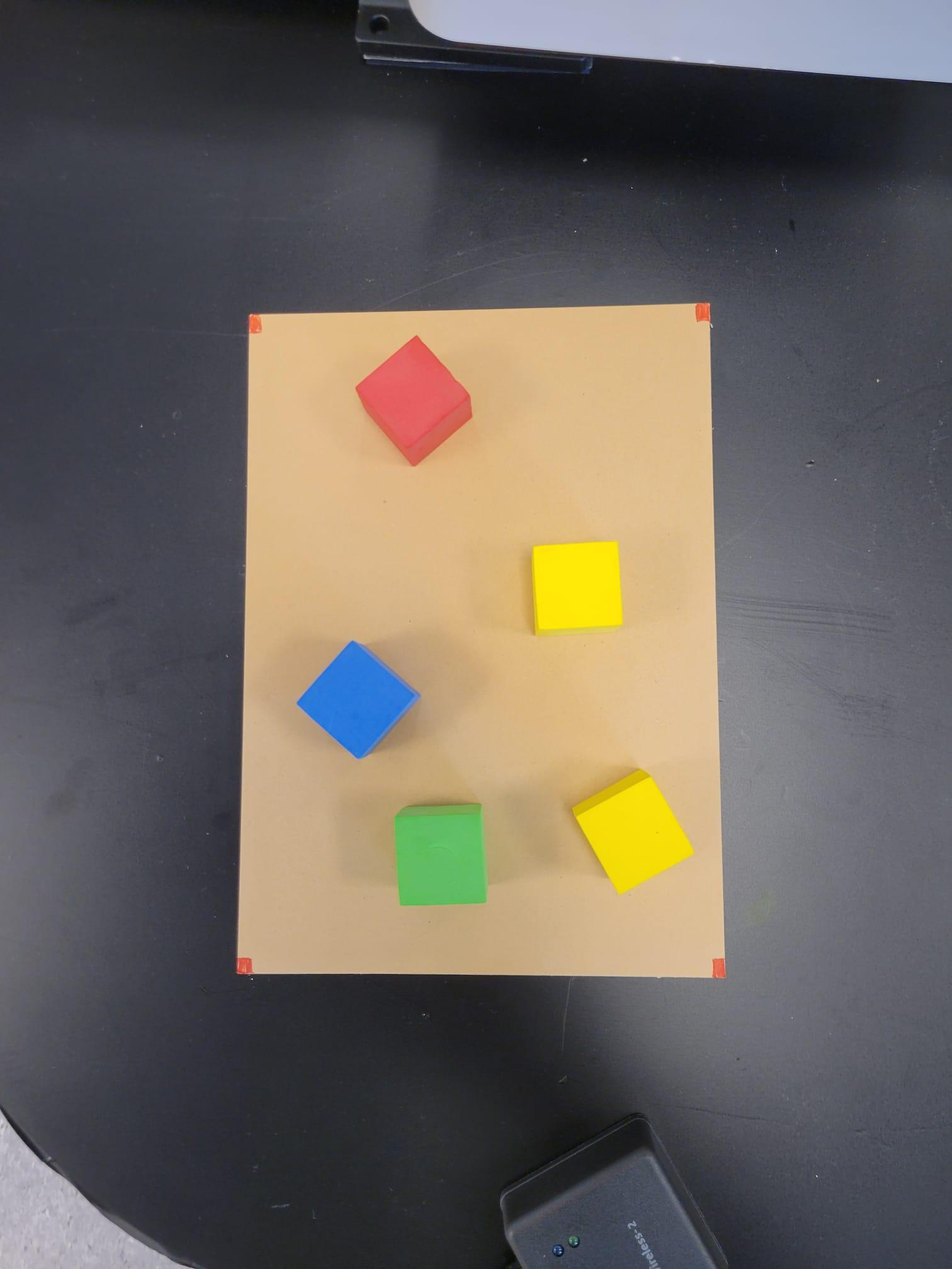cube: (296, 637, 420, 763), (573, 765, 694, 894), (359, 335, 475, 469), (395, 804, 488, 906), (530, 537, 623, 636)
